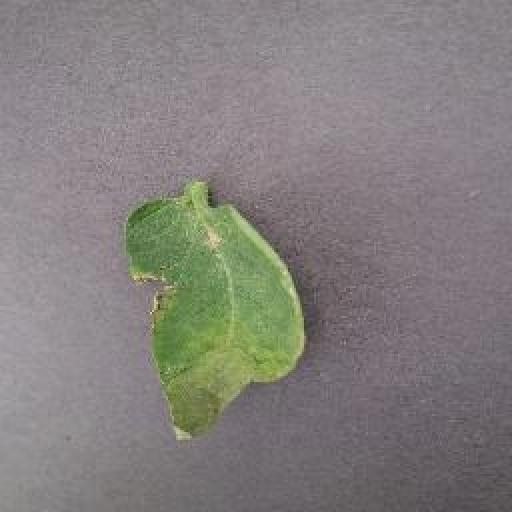disease_tomato: (126, 191, 306, 441)
